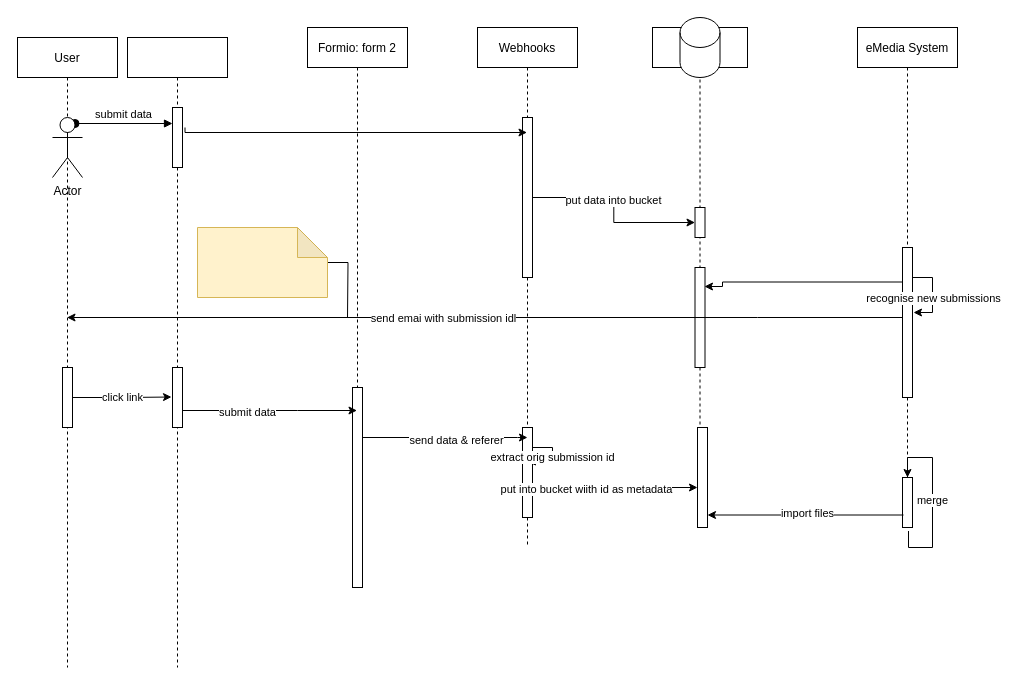
This 1018x685 diagram has some shape labels left out. The shapes that lost their labels are listed below. From the top down, each one's centre as x and y in pixels, then its label:
At pixel 699 47: "s3".
At pixel 262 262: "Link: &submissionId=abc123".
At pixel 177 352: "Formio:form 1".
